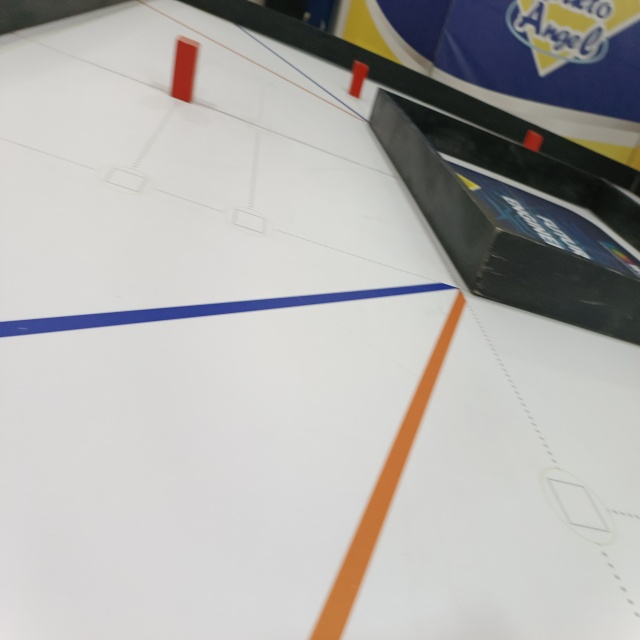blue line: (0, 275, 461, 339), (241, 33, 368, 124)
orange line: (302, 292, 474, 640), (125, 4, 368, 126)
red rectangular prism: (166, 34, 198, 103), (345, 57, 374, 103), (523, 126, 546, 154)
